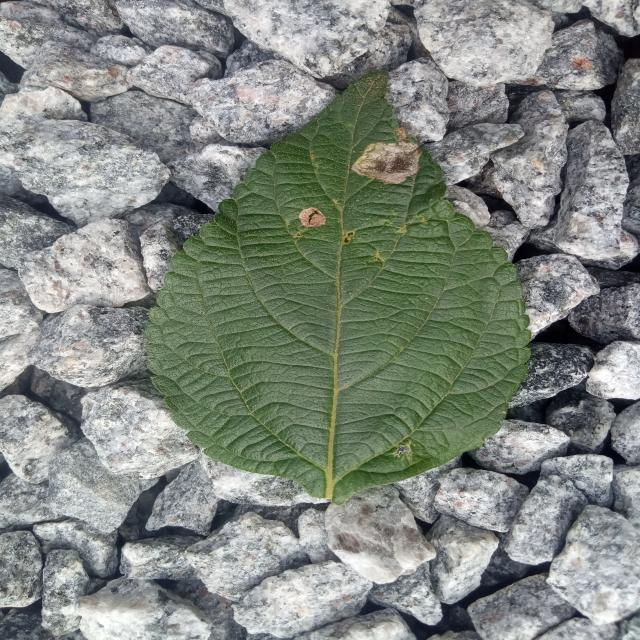Lantana: (145, 74, 530, 504)
